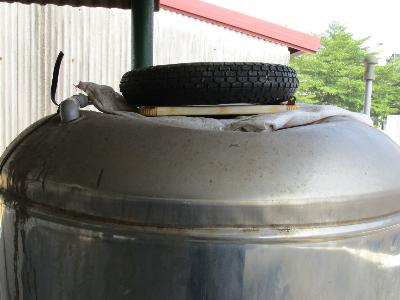tire: (119, 59, 300, 106)
